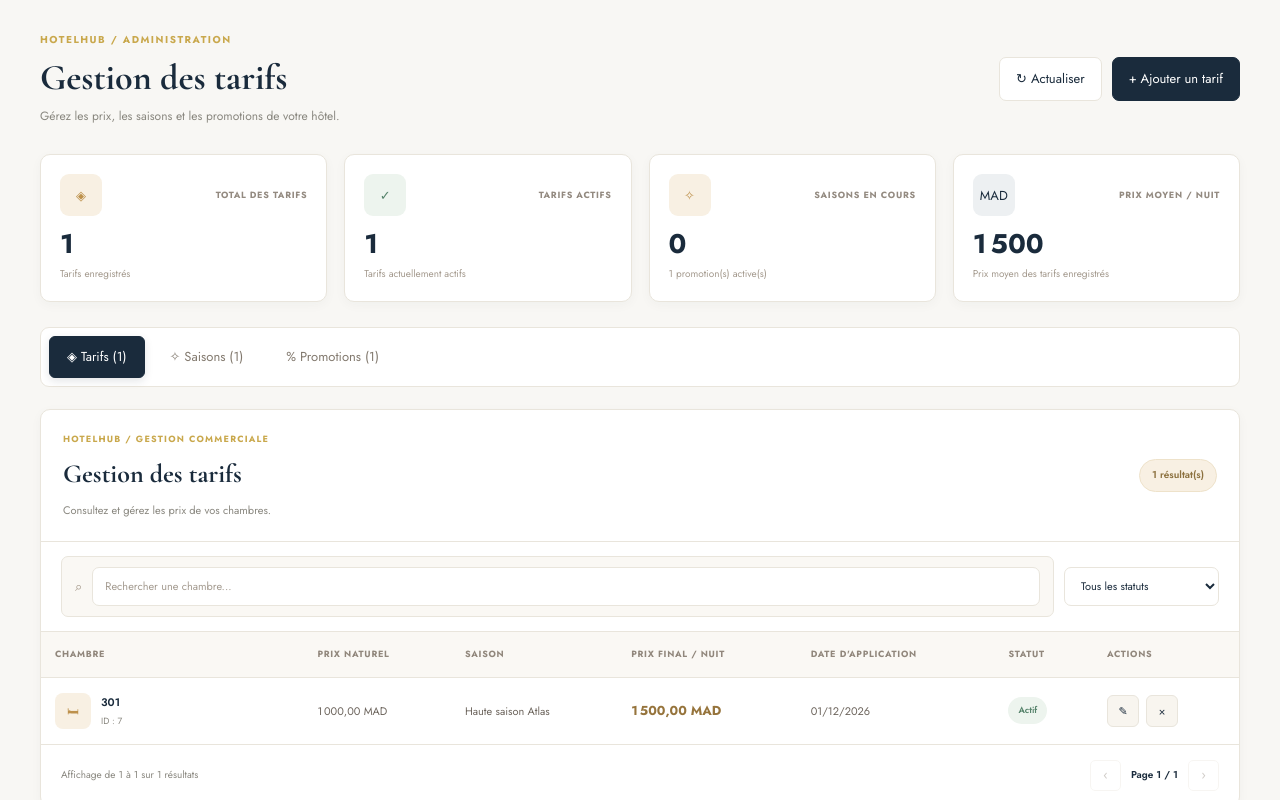
Test case: AdminTarifsPage › affiche les saisons et promotions
The width and height of the screenshot is (1280, 800).
Check: the table is shown, box x1=41 y1=632 x2=1239 y2=744
Click the button "✧ Saisons (1)" at (206, 357), box x1=152 y1=336 x2=261 y2=378
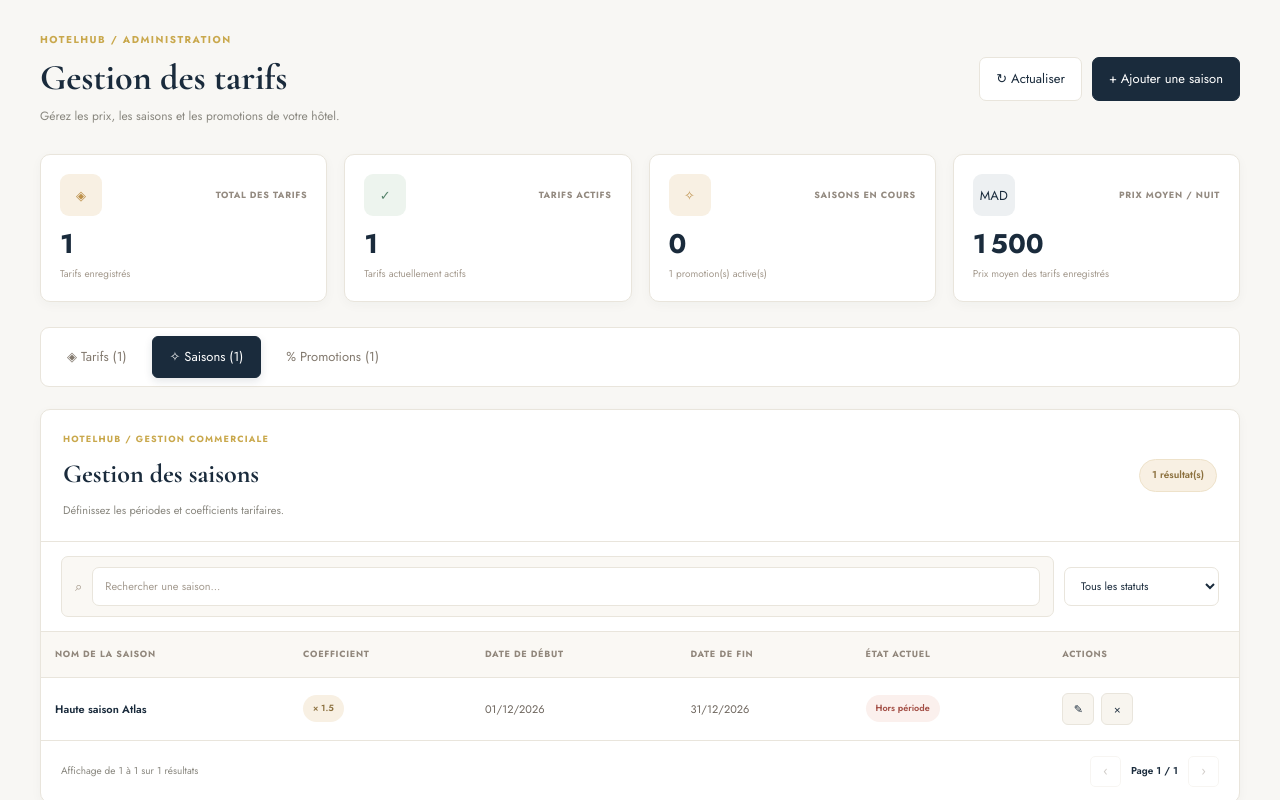
Check: the text "Haute saison Atlas" is shown, box x1=55 y1=700 x2=146 y2=716
Click the button "% Promotions (1)" at (333, 357), box x1=268 y1=336 x2=397 y2=378
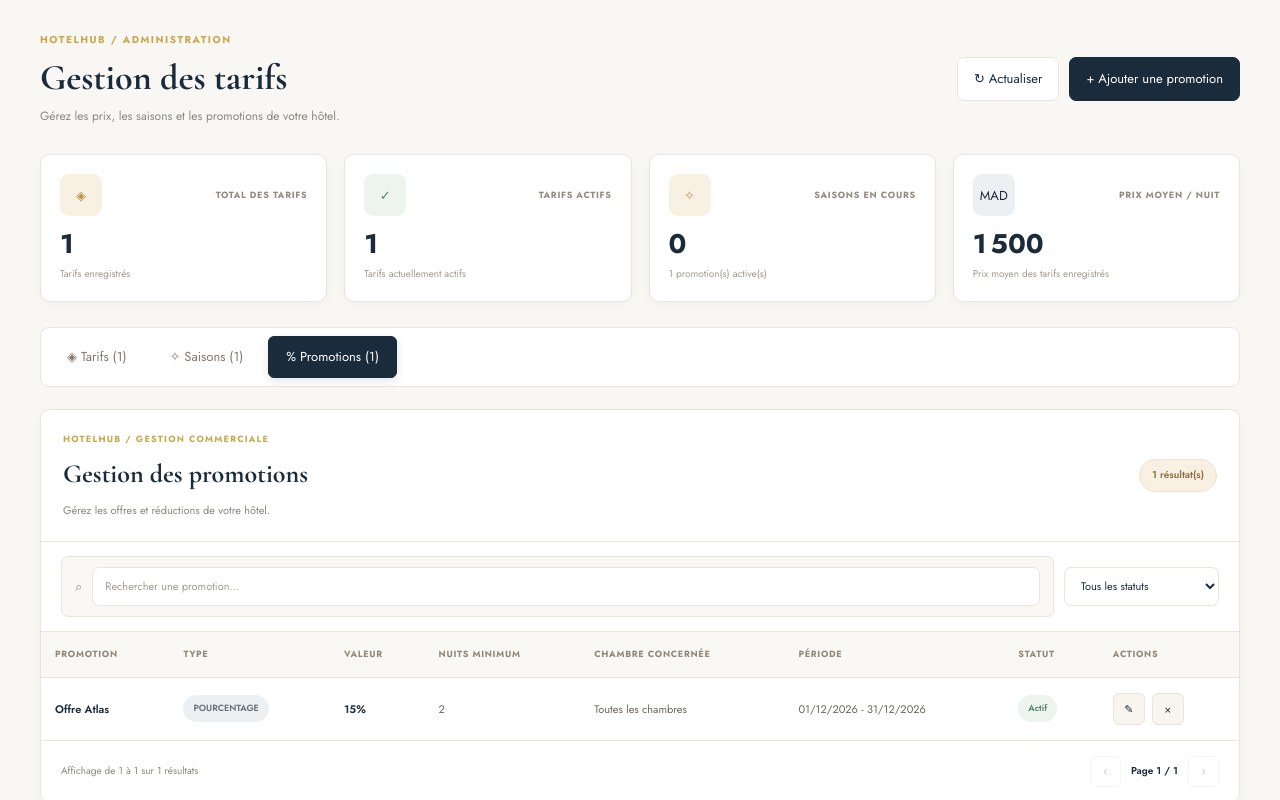
Check: the text "Offre Atlas" is shown, box x1=55 y1=700 x2=109 y2=716
Check: the text "15%" is shown, box x1=344 y1=700 x2=366 y2=716
